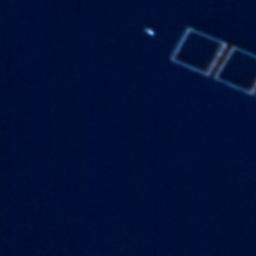square_solid: (164, 22, 231, 82), (211, 42, 256, 98)
